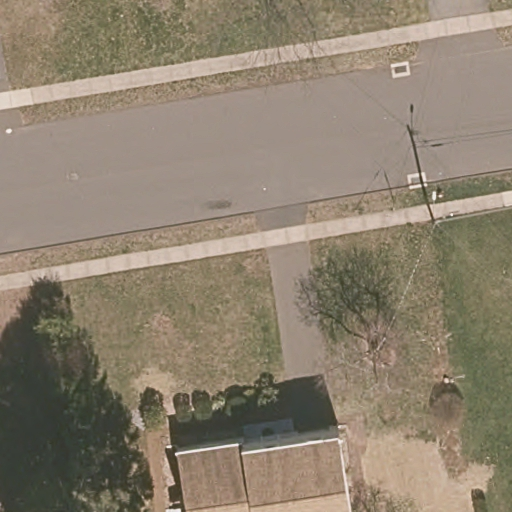DT: (418, 177, 458, 226)
